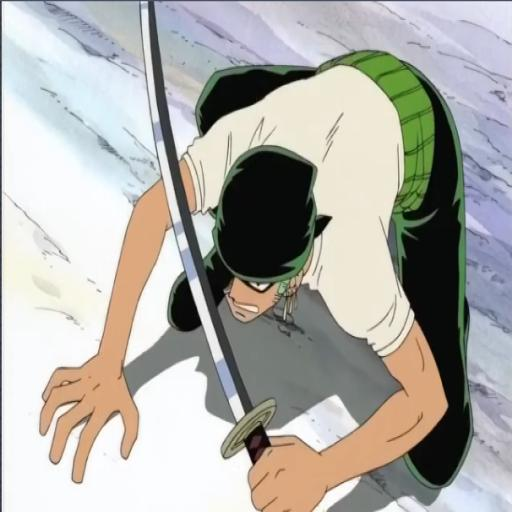Zoro: (38, 0, 488, 512)
